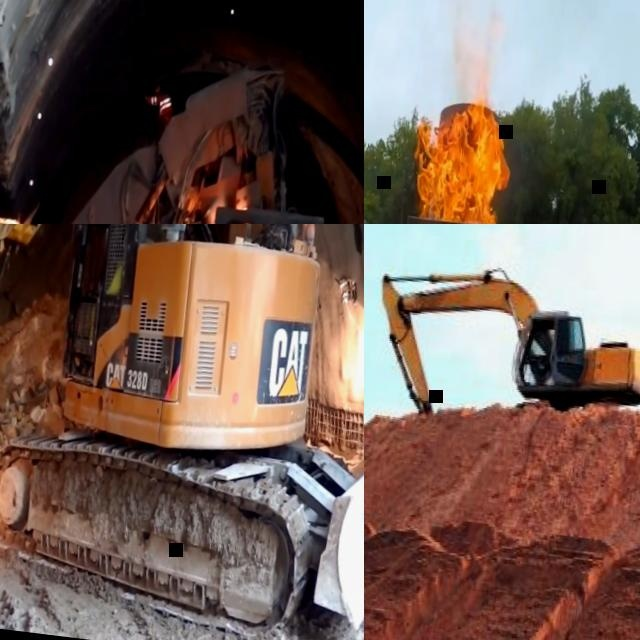Person: (83, 243, 129, 366)
Safety Vest: (108, 265, 123, 293)
machinery: (0, 224, 364, 640), (0, 31, 364, 224), (366, 251, 640, 441)
